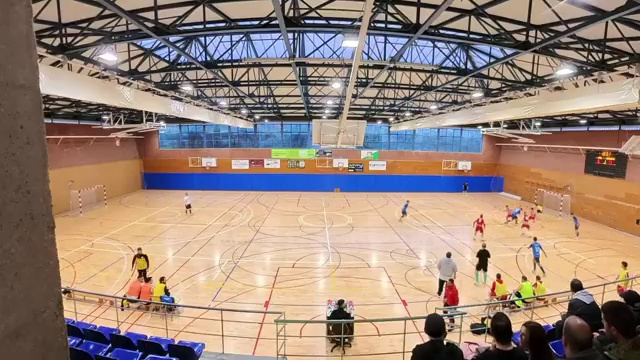players blue shirt: (529, 237, 544, 274), (511, 209, 521, 223), (573, 213, 579, 235), (401, 200, 408, 217)
players red shirt: (473, 214, 485, 237), (525, 207, 536, 222), (521, 222, 529, 235), (505, 206, 511, 223)
